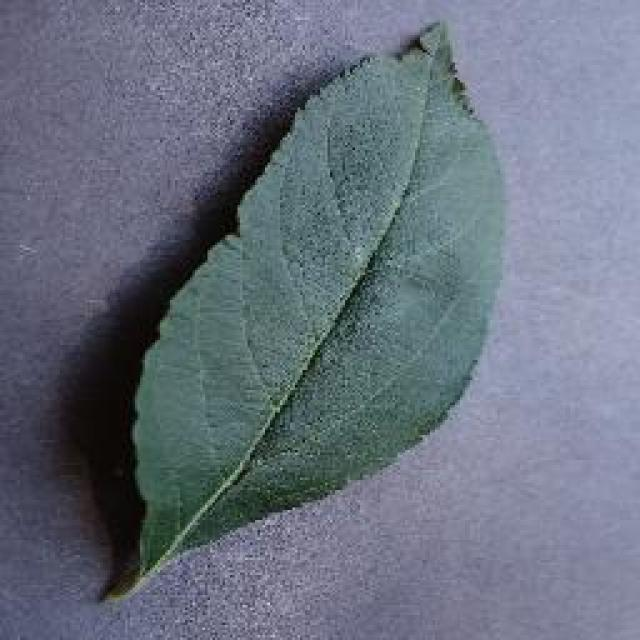apple healthy: (98, 15, 510, 600)
